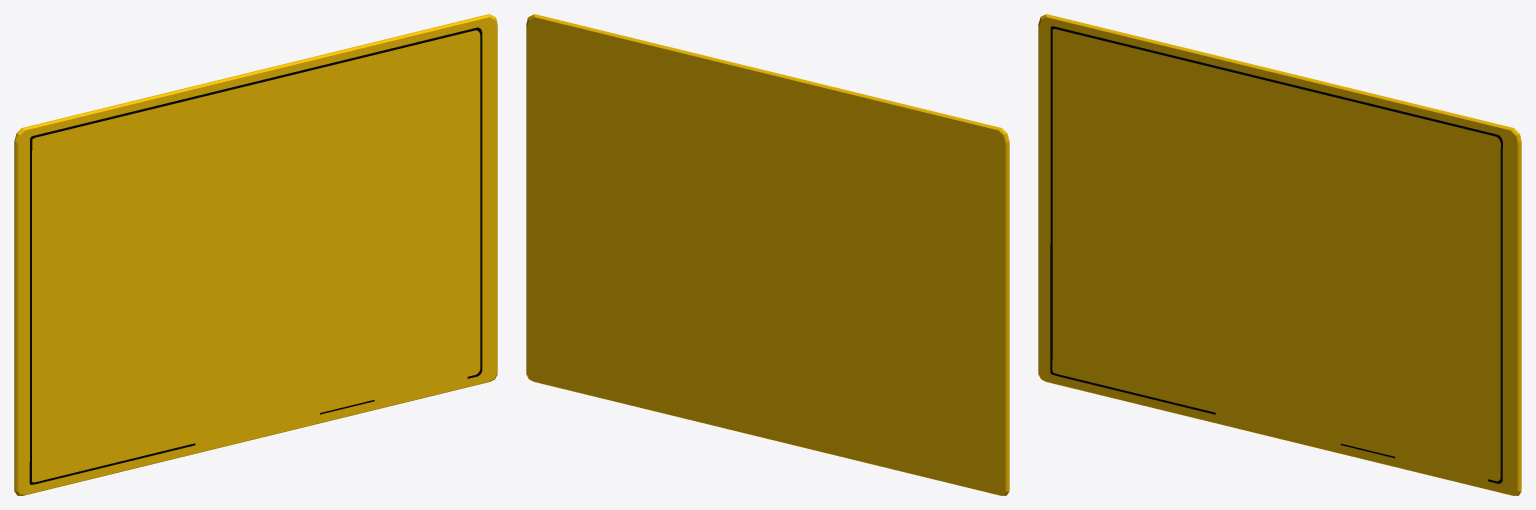
The model's file is square_bordered_plate.gltf.
3 renders of one model, left to right at view 1: azimuth 30°, elevation 25°; view 2: azimuth 150°, elevation 25°; view 3: azimuth 330°, elevation 25°, orthographic.
Visible parts, largest first — view 1: Plane, Circle.001; view 2: Plane; view 3: Plane, Circle.001.
Boxes of the visible parts, bbox=[...] form: Plane: bbox=[14, 14, 497, 495]; Circle.001: bbox=[29, 27, 482, 484]; Plane: bbox=[526, 14, 1009, 495]; Plane: bbox=[1038, 14, 1521, 495]; Circle.001: bbox=[1050, 26, 1502, 483].
Bounding box in the file's own units: 6.98 × 5.07 × 0.0801.
